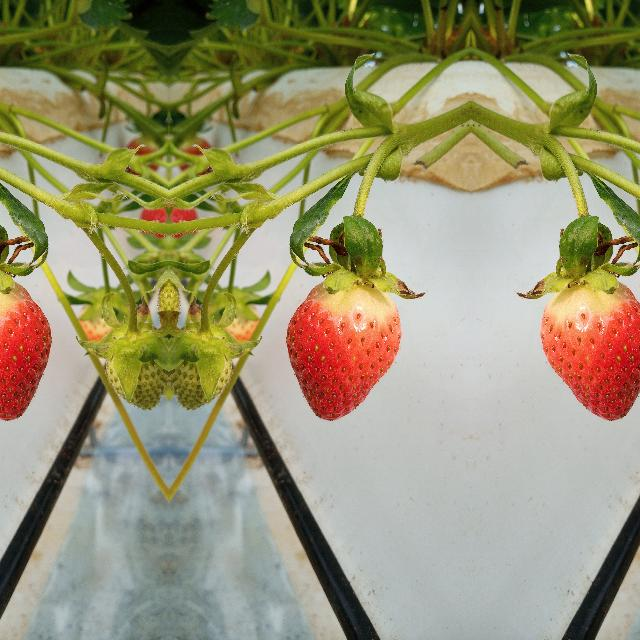Health_100: (284, 280, 402, 422), (539, 280, 640, 422), (0, 280, 51, 422)
Health_25: (176, 314, 242, 414), (94, 314, 160, 414)
